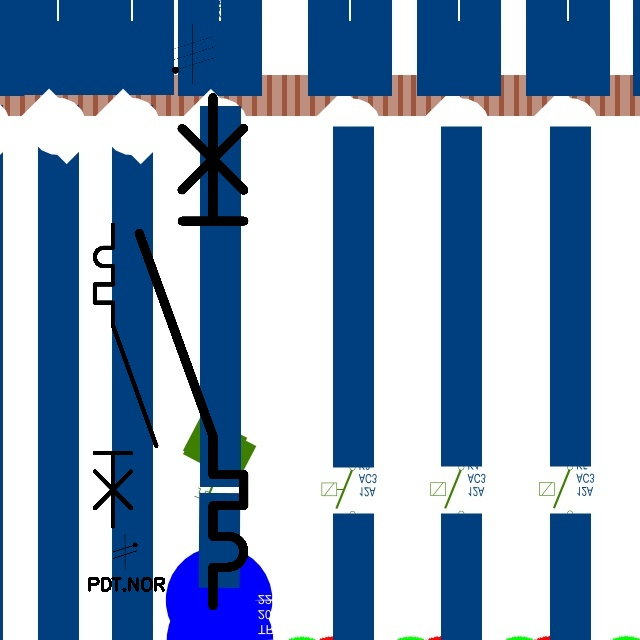interruptor_termomagnetico: (126, 84, 257, 618), (87, 217, 164, 534)
